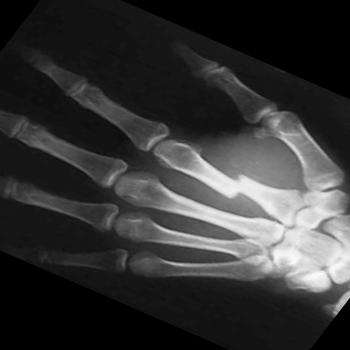Fracture: (223, 171, 251, 202)
